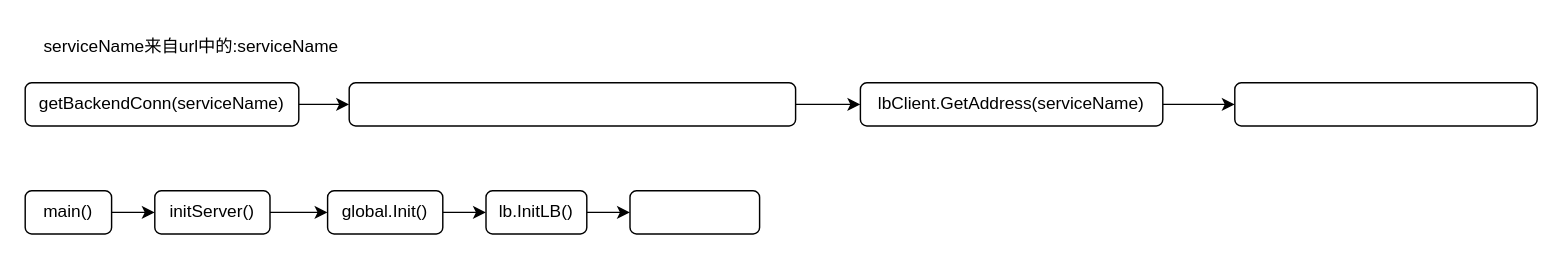
The diagram is 1562 pixels wide and 259 high, and some of its shapes have lost their labels. Each missing label, with the centre of its shape:
global.GetCachedConnByServiceName(serviceName): (x=572, y=103)
lbClient.Init(): (x=694, y=211)
LibClient.GetService(serviceName): (x=1385, y=103)
